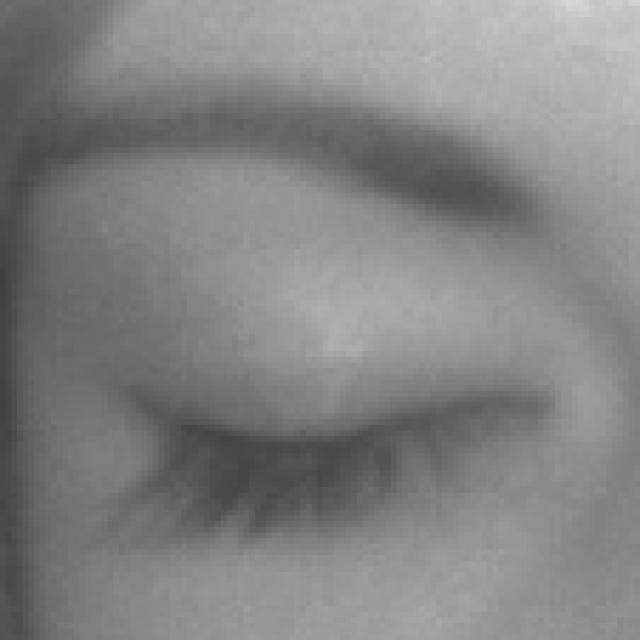Eyeclosed: (123, 236, 545, 640)
